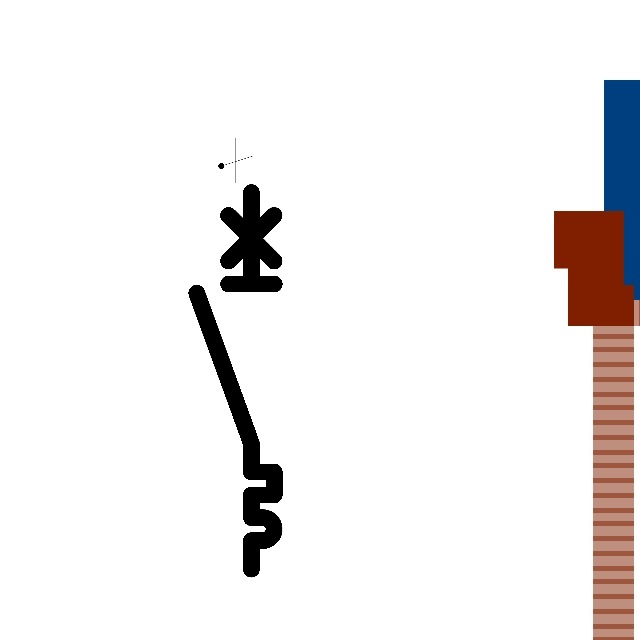interruptor_termomagnetico: (187, 182, 284, 578)
